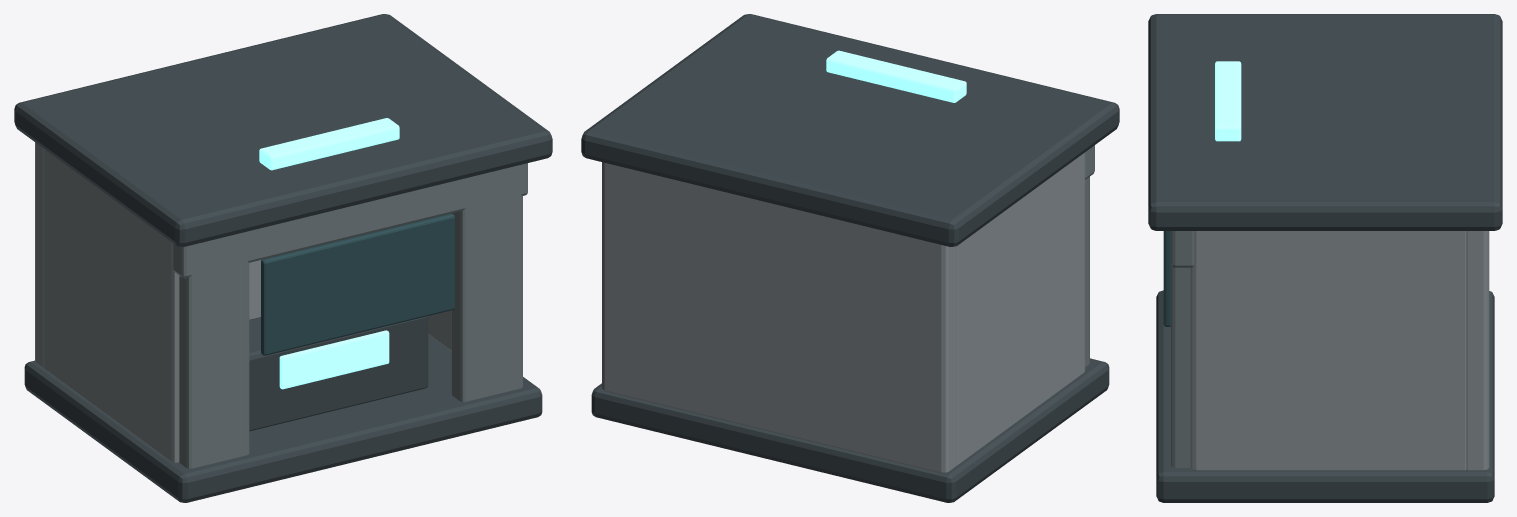
File: GuardBooth_A.fbx
The picture shows the model from 3 angles, left to right: view 1: azimuth 30°, elevation 25°; view 2: azimuth 150°, elevation 25°; view 3: azimuth 270°, elevation 25°; orthographic projection. The views are drawn at different scales.
Visible parts, largest first — view 1: Booth Roof, Booth Left Wall, Booth Base, Booth Window, Booth Front Left, Booth Front Right, Booth Front Header, Booth Console, Booth Console Screen, Booth Roof Beacon, Booth Rear Wall, Booth Right Wall; view 2: Booth Rear Wall, Booth Roof, Booth Left Wall, Booth Base, Booth Roof Beacon, Booth Front Left; view 3: Booth Roof, Booth Right Wall, Booth Base, Booth Rear Wall, Booth Front Right, Booth Roof Beacon, Booth Front Header, Booth Window.
Boxes of the visible parts, <box> form: Booth Roof: <box>14,14,552,246</box>; Booth Left Wall: <box>44,149,179,462</box>; Booth Base: <box>24,334,542,502</box>; Booth Window: <box>261,213,454,355</box>; Booth Front Left: <box>179,258,249,468</box>; Booth Front Right: <box>451,194,522,401</box>; Booth Front Header: <box>173,163,527,278</box>; Booth Console: <box>249,316,428,431</box>; Booth Console Screen: <box>279,330,389,389</box>; Booth Roof Beacon: <box>259,118,399,170</box>; Booth Rear Wall: <box>35,142,261,368</box>; Booth Right Wall: <box>428,310,451,350</box>; Booth Rear Wall: <box>602,162,956,473</box>; Booth Roof: <box>581,14,1119,246</box>; Booth Left Wall: <box>956,152,1085,465</box>; Booth Base: <box>591,358,1109,502</box>; Booth Roof Beacon: <box>826,50,966,102</box>; Booth Front Left: <box>1085,177,1089,366</box>; Booth Roof: <box>1148,14,1502,230</box>; Booth Right Wall: <box>1190,231,1466,470</box>; Booth Base: <box>1156,290,1494,502</box>; Booth Rear Wall: <box>1466,231,1489,470</box>; Booth Front Right: <box>1171,264,1190,467</box>; Booth Roof Beacon: <box>1215,61,1241,141</box>; Booth Front Header: <box>1171,231,1194,267</box>; Booth Window: <box>1163,231,1170,326</box>.
Bounding box in the file's own units: 4.35 × 3.32 × 3.35.
